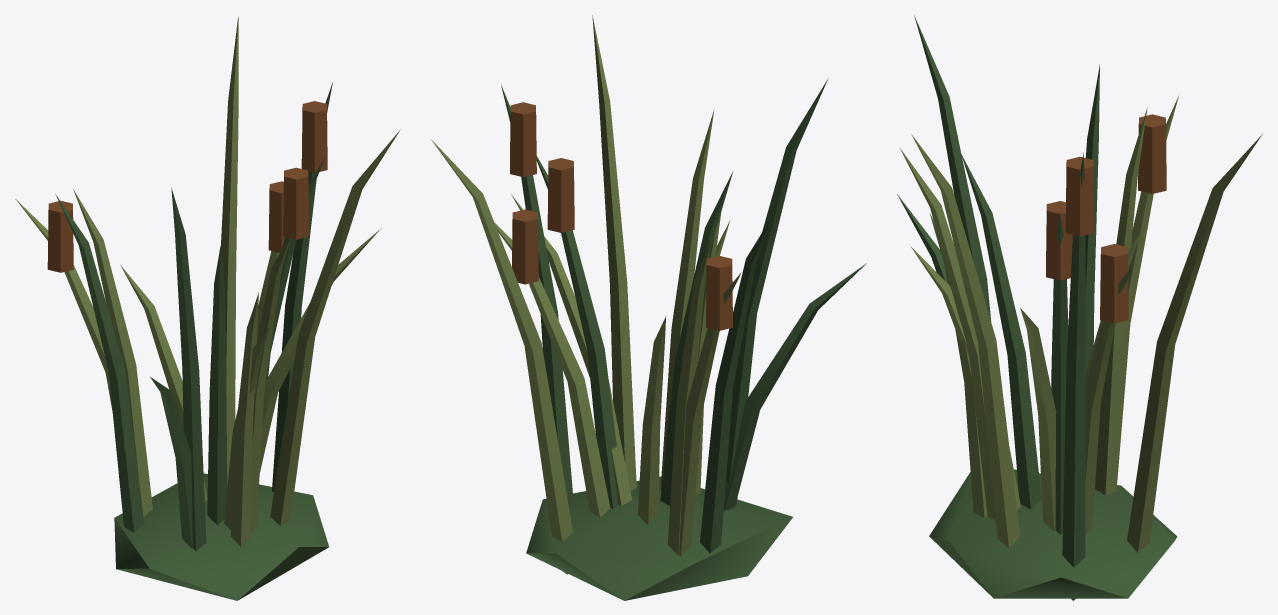
File: reeds.glb
3 views of the same model, side by side, from view 1: azimuth 30°, elevation 25°; view 2: azimuth 150°, elevation 25°; view 3: azimuth 270°, elevation 25° (orthographic). The views are drawn at different scales.
Parts seen in each view (by area): view 1: reeds; view 2: reeds; view 3: reeds.
Part boxes in pixels (<box>): reeds: <box>15,17,400,600</box>; reeds: <box>431,15,866,600</box>; reeds: <box>897,15,1262,600</box>.
Bounding box in the file's own units: 0.3865 × 0.5723 × 0.3767.
